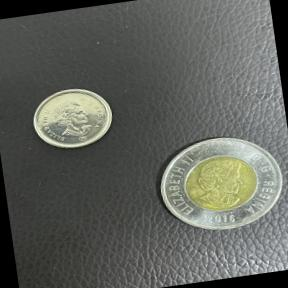Canada-10cent-B: (23, 80, 122, 158)
Canada-2Dollar-B: (143, 120, 288, 248)
